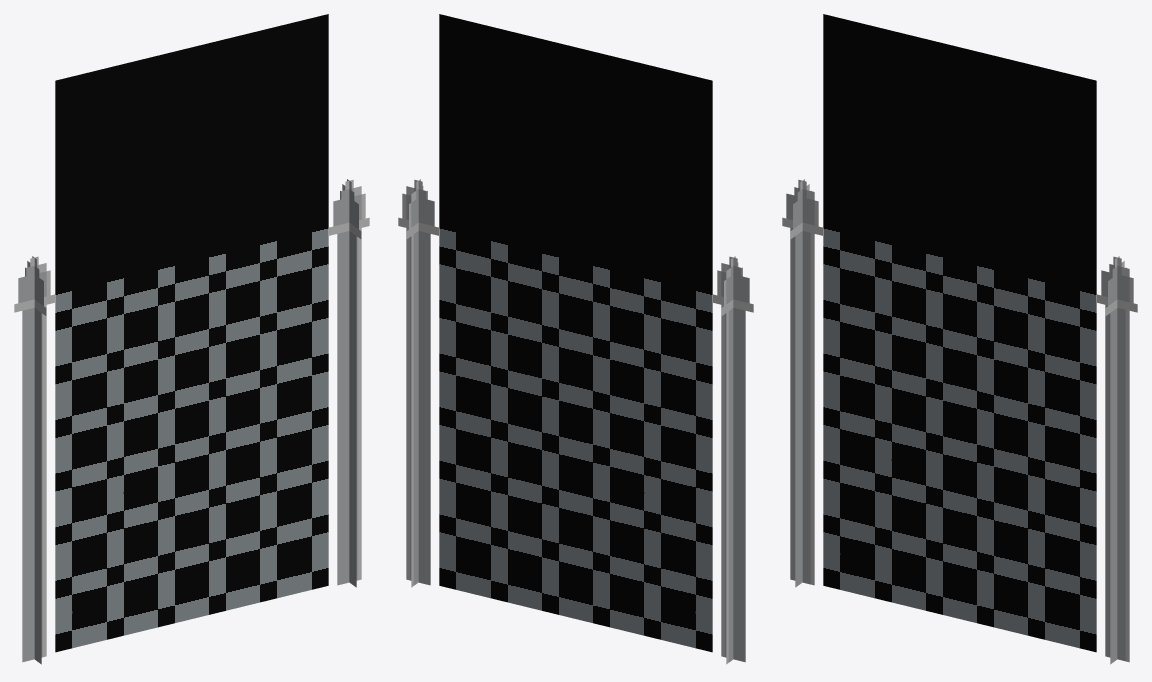
Rendered from ChainlinkFence.glb.
3 renders of one model, left to right at view 1: azimuth 30°, elevation 25°; view 2: azimuth 150°, elevation 25°; view 3: azimuth 330°, elevation 25°, orthographic.
Parts seen in each view (by area): view 1: ChainLinkFence, ChainLinkFencePost.003, ChainLinkFencePost, ChainLinkFencePost.001, ChainLinkFencePost.002; view 2: ChainLinkFence, ChainLinkFencePost.003, ChainLinkFencePost, ChainLinkFencePost.001, ChainLinkFencePost.002; view 3: ChainLinkFence, ChainLinkFencePost, ChainLinkFencePost.003, ChainLinkFencePost.001, ChainLinkFencePost.002.
Part boxes in pixels (bbox=[...]): ChainLinkFence: bbox=[55, 14, 328, 652]; ChainLinkFencePost.003: bbox=[329, 179, 369, 585]; ChainLinkFencePost: bbox=[14, 256, 54, 662]; ChainLinkFencePost.001: bbox=[25, 256, 46, 664]; ChainLinkFencePost.002: bbox=[340, 179, 361, 587]; ChainLinkFence: bbox=[439, 14, 712, 652]; ChainLinkFencePost.003: bbox=[398, 179, 438, 585]; ChainLinkFencePost: bbox=[713, 256, 753, 662]; ChainLinkFencePost.001: bbox=[721, 256, 742, 664]; ChainLinkFencePost.002: bbox=[406, 179, 427, 587]; ChainLinkFence: bbox=[823, 14, 1096, 652]; ChainLinkFencePost: bbox=[782, 179, 822, 585]; ChainLinkFencePost.003: bbox=[1097, 256, 1137, 662]; ChainLinkFencePost.001: bbox=[790, 179, 811, 587]; ChainLinkFencePost.002: bbox=[1105, 256, 1126, 664].
Bounding box in the file's own units: 0.6509 × 1 × 0.0744.
5 materials, 5 textured.
